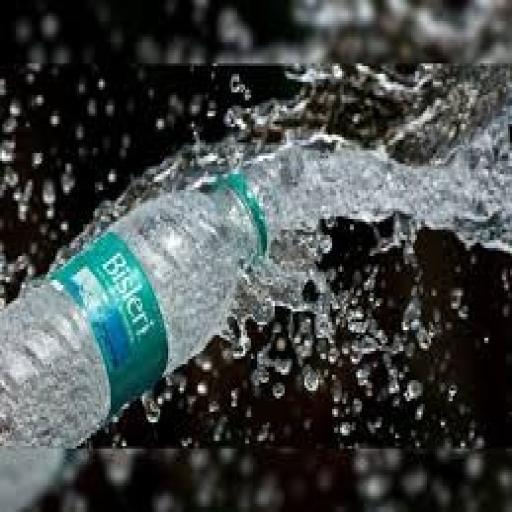bottle: (0, 154, 286, 454)
